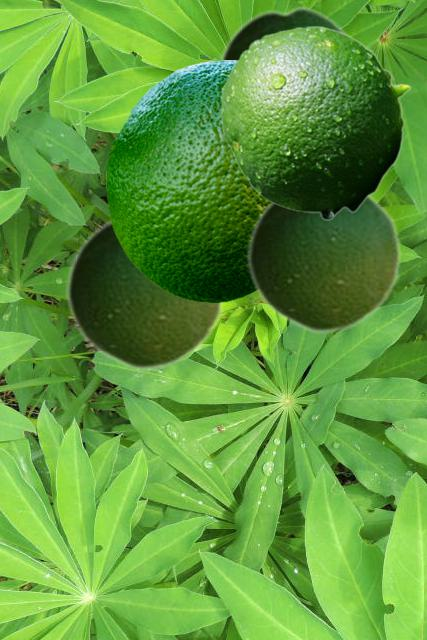dalandan: (106, 60, 267, 301), (220, 25, 410, 220), (65, 217, 224, 371), (246, 195, 401, 334), (216, 4, 352, 59)
